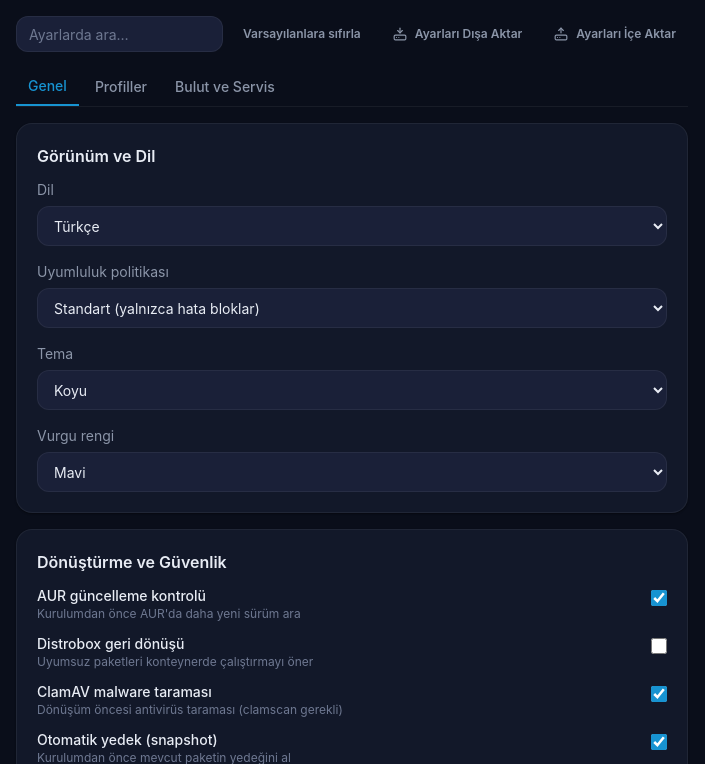
Settings page › renders the profile list (C2)
Step 1. Click the button "Profiller" → (121,87), box [83, 68, 159, 106]
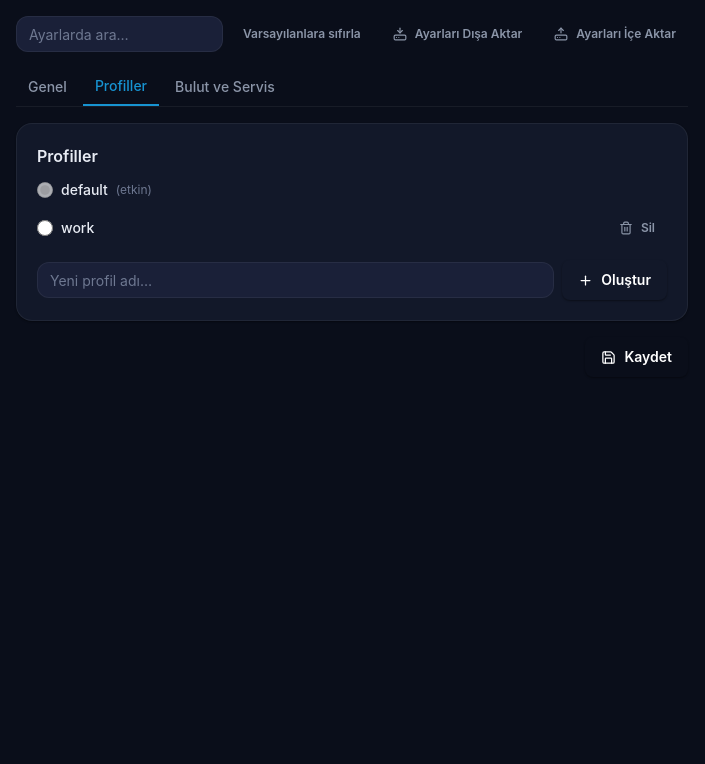
Result: the text "default" is shown at [61, 180, 108, 200]
Result: the text "work" is shown at [61, 218, 94, 238]
